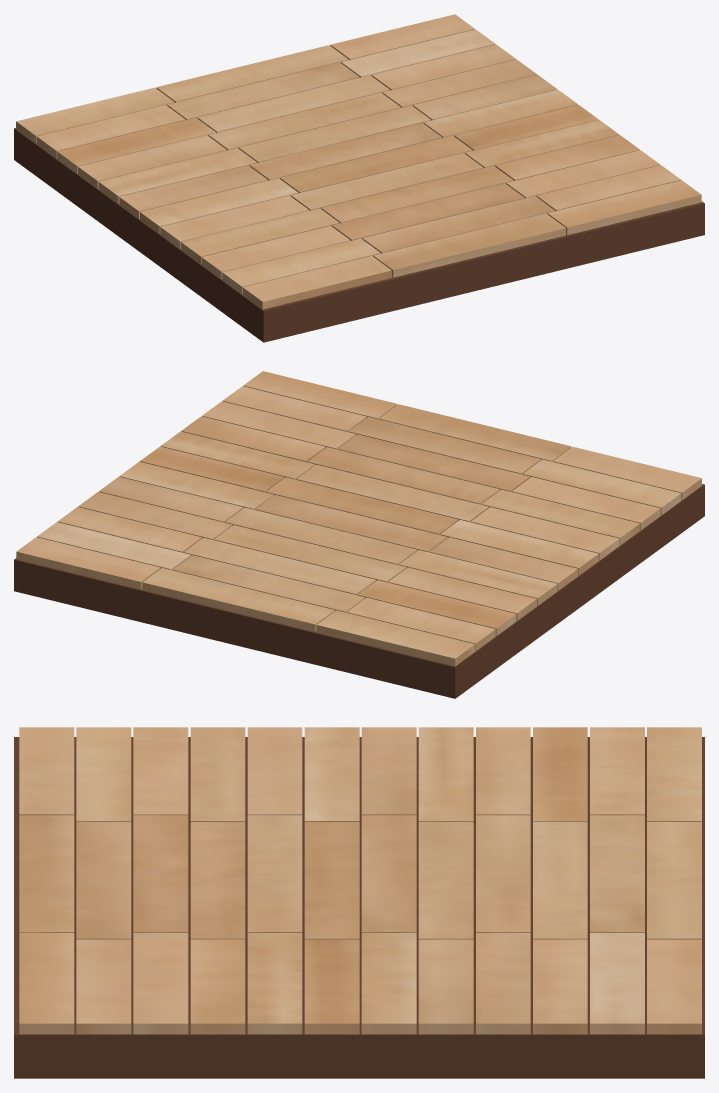
Rendered from broken_FlaskSquare.fbx_floor3.fbx_floor2.fbx.
The picture shows the model from 3 angles, top to bottom: view 1: azimuth 30°, elevation 25°; view 2: azimuth 150°, elevation 25°; view 3: azimuth 270°, elevation 25°; orthographic projection. The views are drawn at different scales.
Parts seen in each view (by area): view 1: Cube.021; view 2: Cube.021; view 3: Cube.021.
Part boxes in pixels (<box>): Cube.021: <box>14,14,704,342</box>; Cube.021: <box>14,371,704,698</box>; Cube.021: <box>14,727,704,1078</box>.
Bounding box in the file's own units: 217 × 18.39 × 213.
